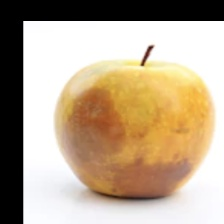apple: (0, 53, 197, 200)
